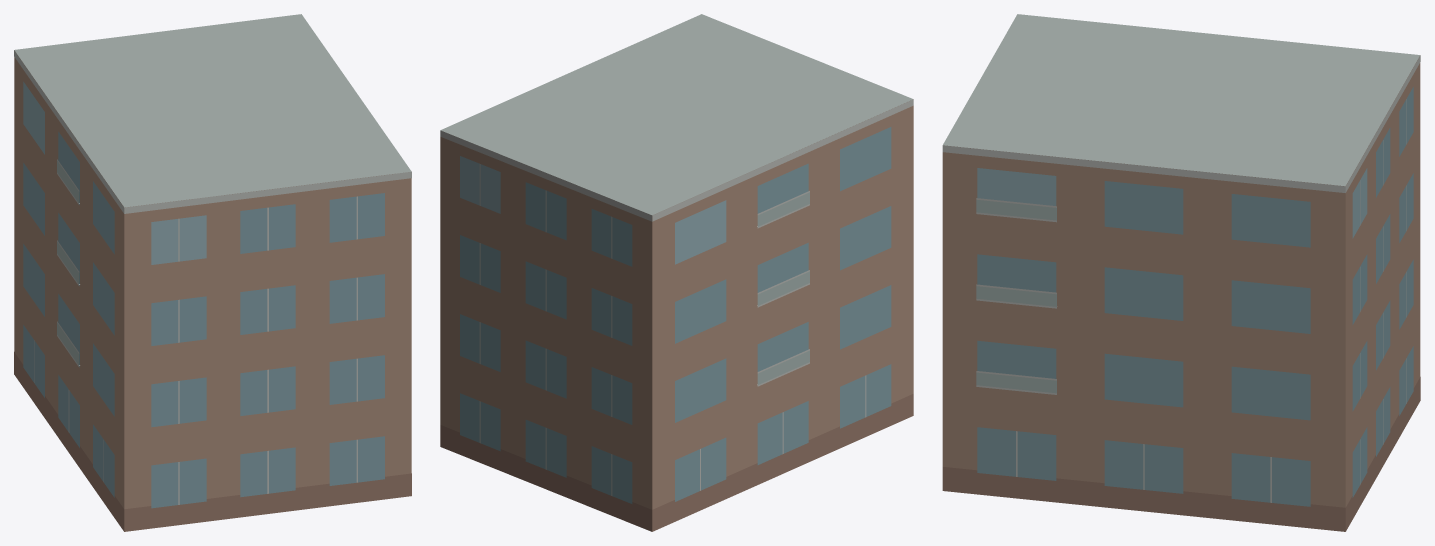
File: residential-3dc51bad-a868-4d11-9897-387f1aacac9e.glb
3 renders of one model, left to right at view 1: azimuth 30°, elevation 25°; view 2: azimuth 150°, elevation 25°; view 3: azimuth 270°, elevation 25°, orthographic. The views are drawn at different scales.
Parts seen in each view (by area): view 1: residential-3dc51bad-a868-4d11-9897-387f1aacac9e.tmp; view 2: residential-3dc51bad-a868-4d11-9897-387f1aacac9e.tmp; view 3: residential-3dc51bad-a868-4d11-9897-387f1aacac9e.tmp.
Boxes of the visible parts, x1,y1,x2,y2 form: residential-3dc51bad-a868-4d11-9897-387f1aacac9e.tmp: (14,14,411,531); residential-3dc51bad-a868-4d11-9897-387f1aacac9e.tmp: (440,14,913,531); residential-3dc51bad-a868-4d11-9897-387f1aacac9e.tmp: (942,14,1420,531).
Bounding box in the file's own units: 13.05 × 12.2 × 15.3.
